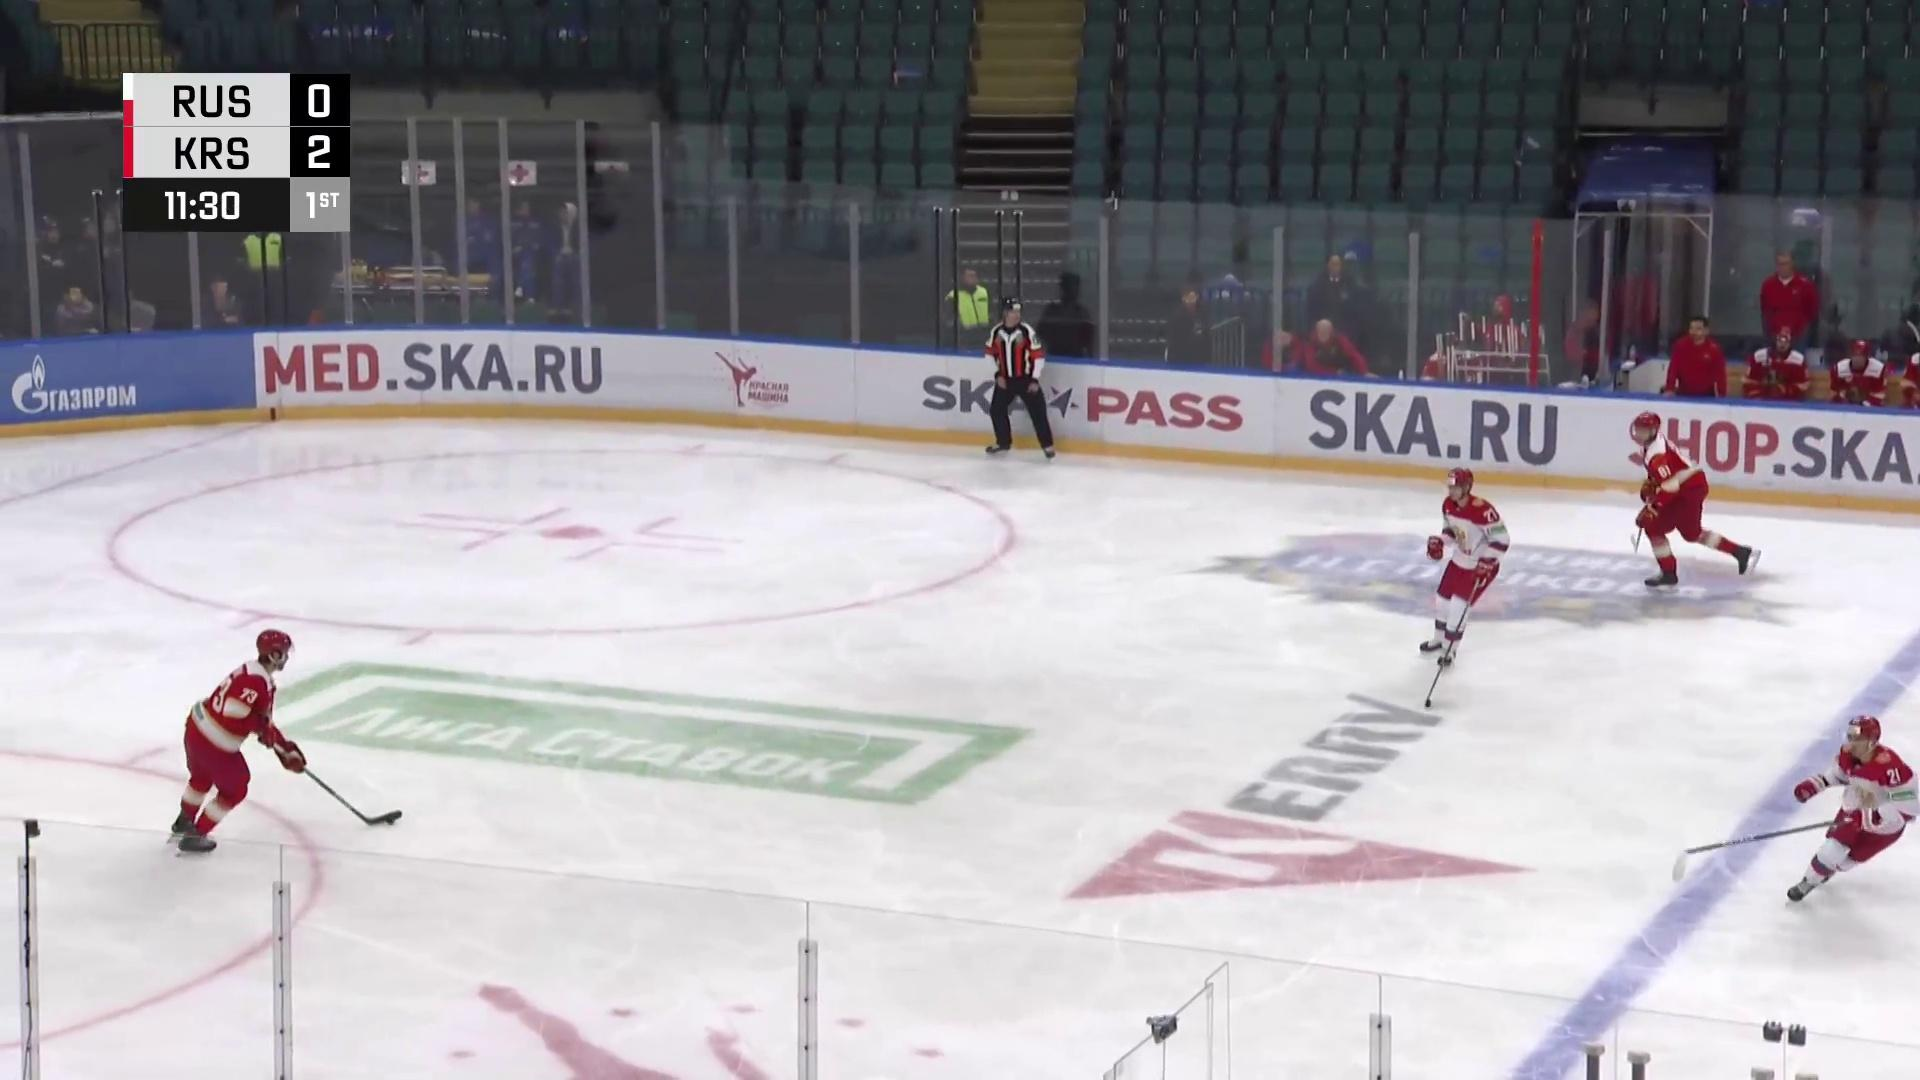ball: (386, 816, 398, 827)
